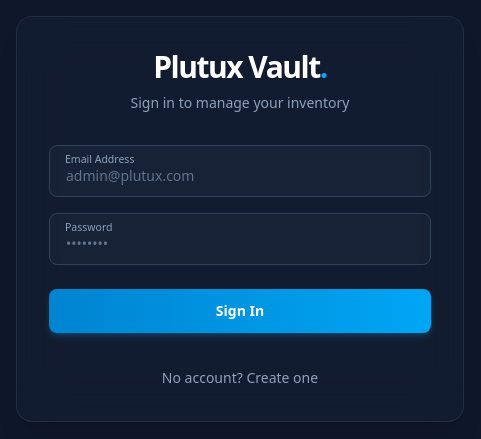
Test: Login Page › should toggle to signup mode
Click the button "No account? Create one". click: (240, 378)
box: [162,368,318,388]
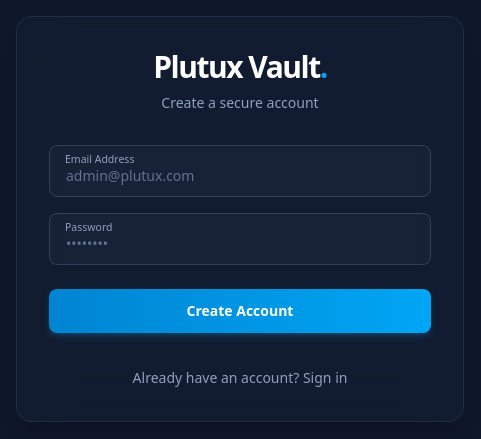
Result: the text "Create a secure account" is shown at [161,93,319,112]
Result: the button "Create Account" is shown at [49,289,431,333]
